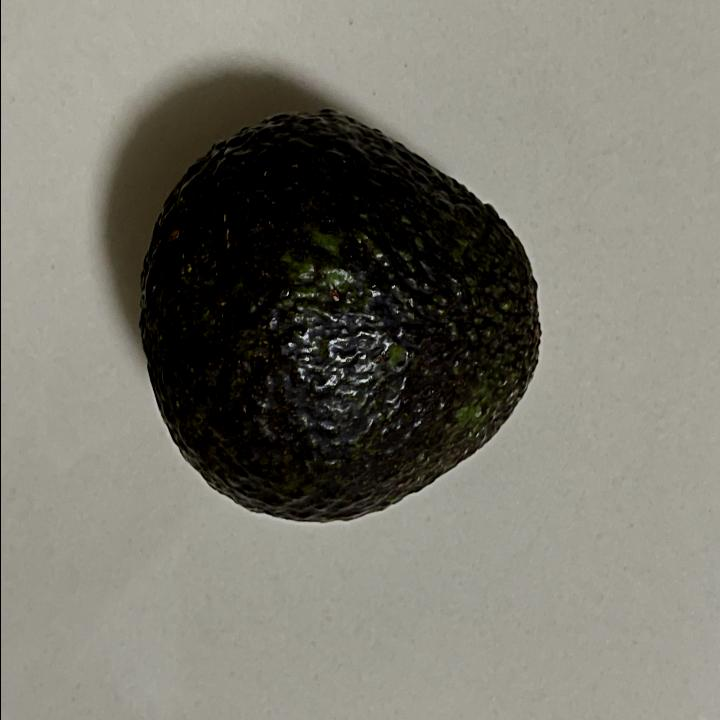Level1: (132, 98, 558, 538)
